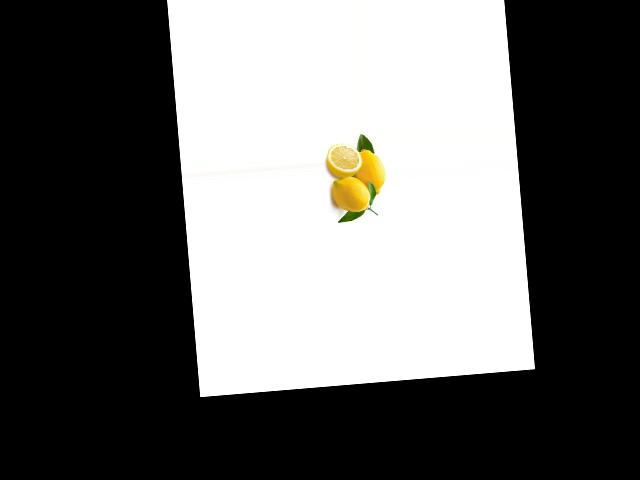lemon: (349, 149, 389, 198)
